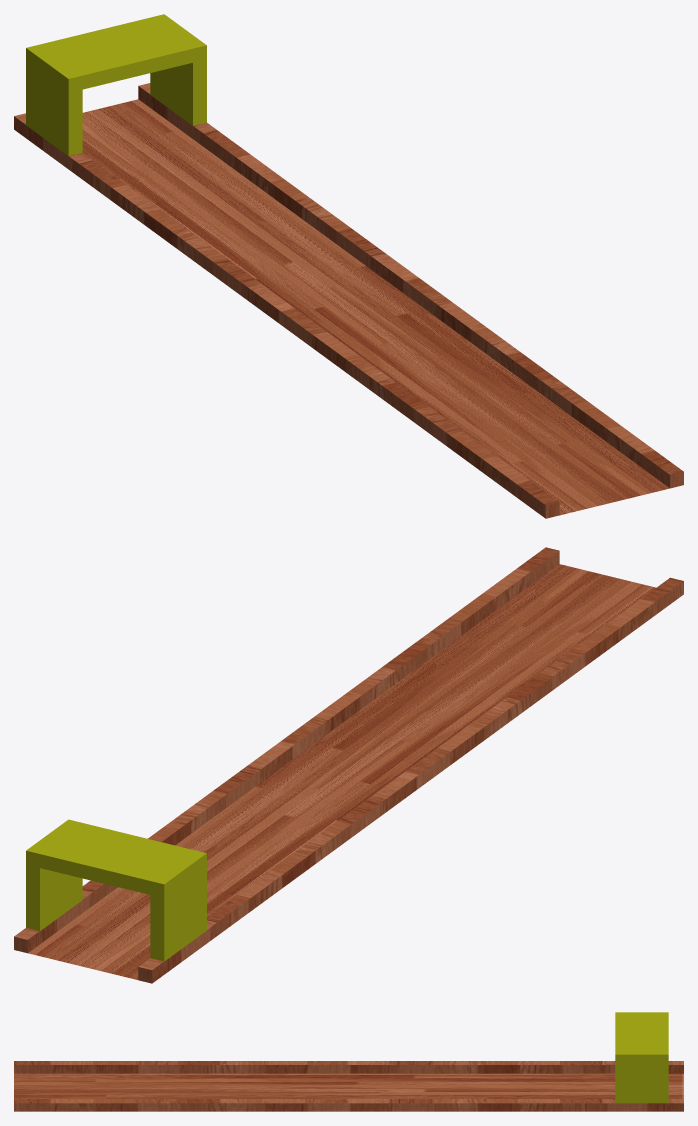
Rendered from lane.fbx.
3 renders of one model, top to bottom at view 1: azimuth 30°, elevation 25°; view 2: azimuth 150°, elevation 25°; view 3: azimuth 270°, elevation 25°, orthographic. The views are drawn at different scales.
Visible parts, largest first — view 1: lane, lanend; view 2: lane, lanend; view 3: lane, lanend.
Boxes of the visible parts, x1,y1,x2,y2 form: lane: (14,83,683,518); lanend: (26,14,206,155); lane: (14,547,683,983); lanend: (26,819,206,961); lane: (14,1061,683,1111); lanend: (615,1012,668,1103).
Size of the model in its own units: 15.01 by 9.39 by 100.
Materials: 2 (1 with a texture image).
